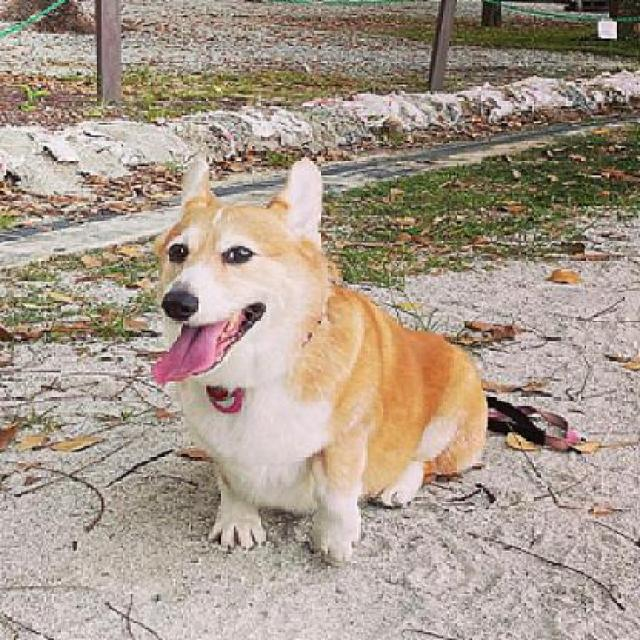Dog: (146, 160, 489, 563)
